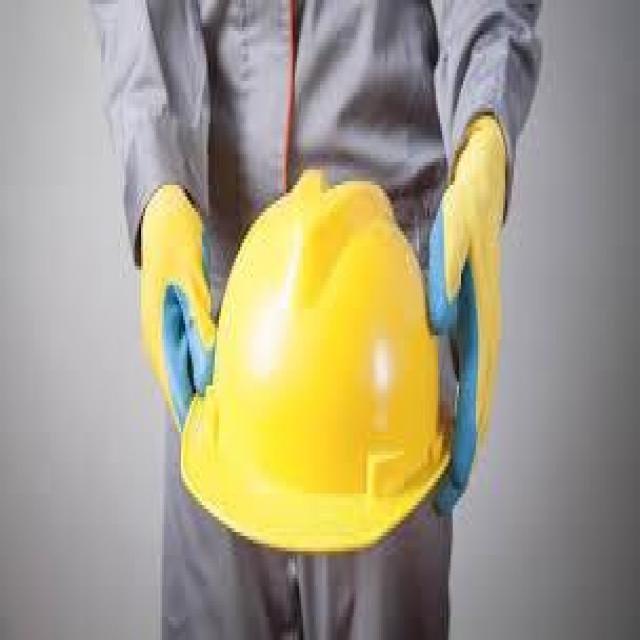Safety-Helmet: (170, 158, 470, 559)
